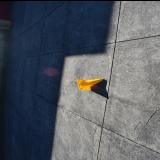cone: (77, 78, 103, 90)
